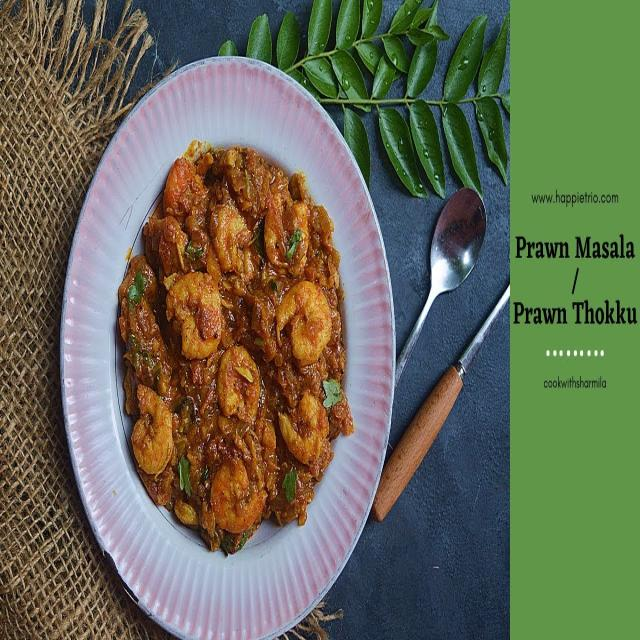prawn thokku: (127, 146, 346, 537)
